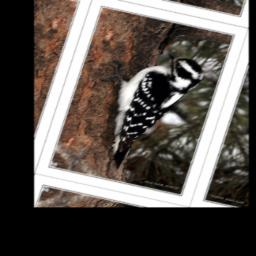Woodpecker: (79, 43, 208, 184)
